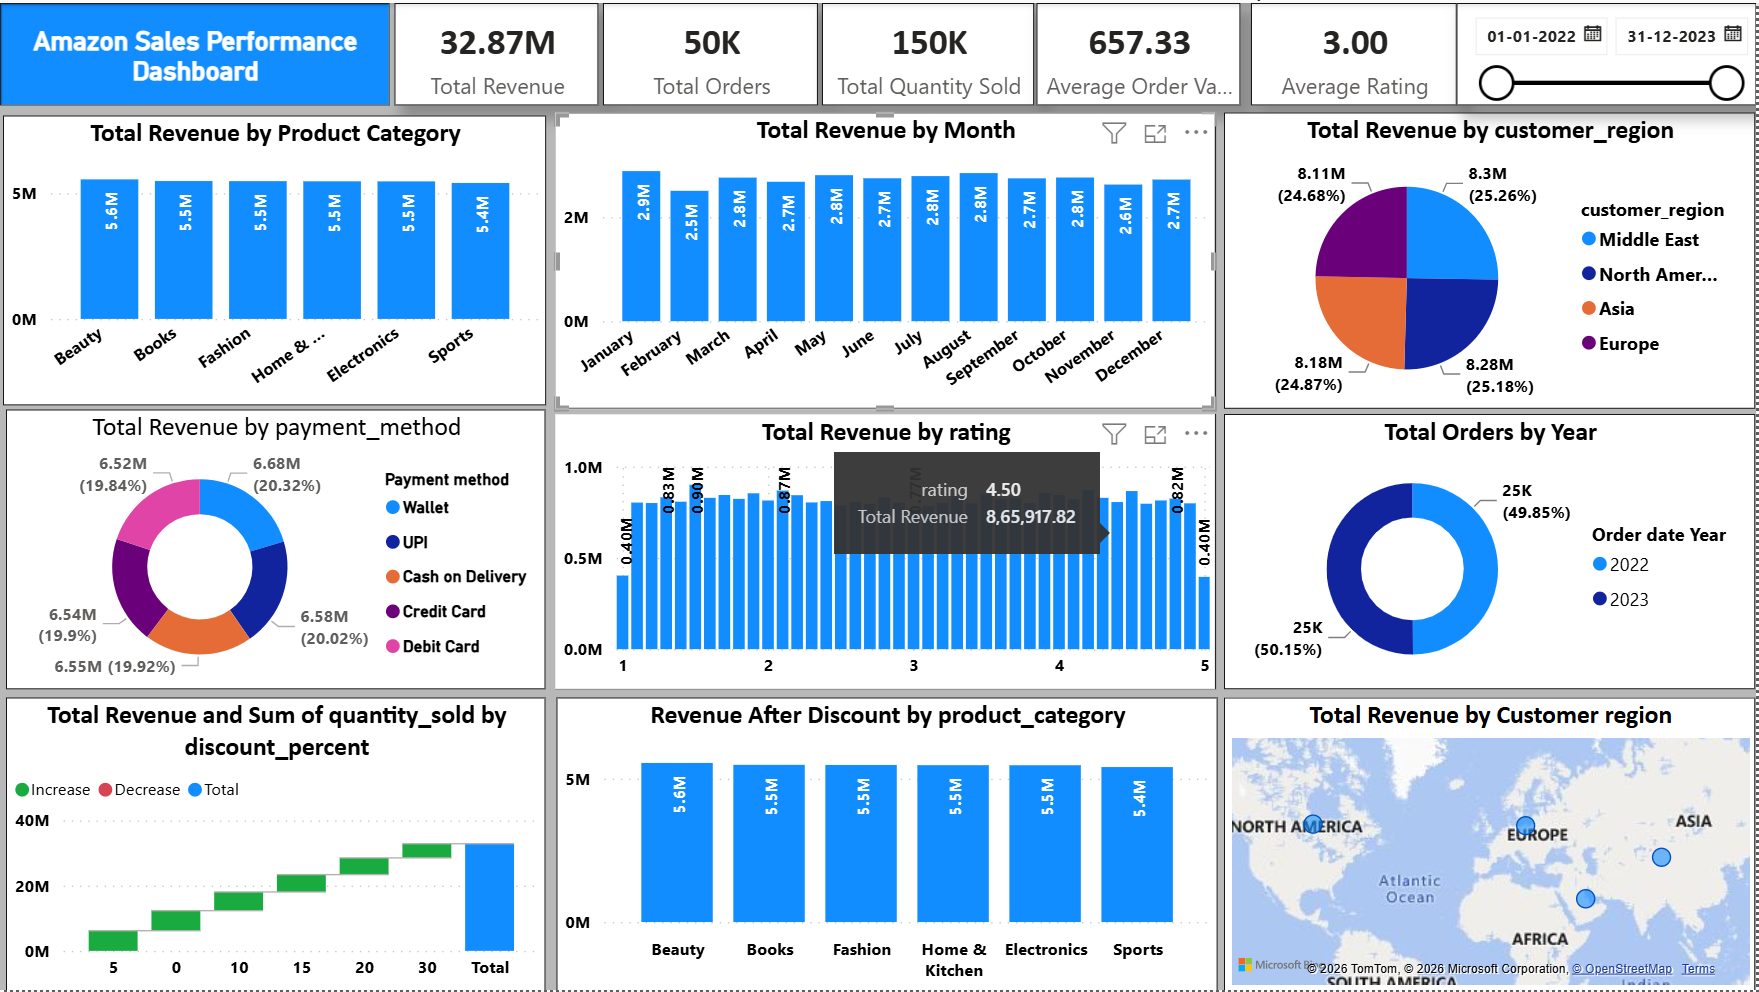

The page's visual inventory and layout, read from the dashboard file:
{"tool":"powerbi","page":{"name":"DASHBOARD","canvas":[1280,720],"ordinal":0},"visuals":[{"type":"card","fields":{"Values":["amazon_sales_dataset.Total Revenue"]},"box":[287.4,0,148.5,74.9],"z":0},{"type":"card","fields":{"Values":["amazon_sales_dataset.Total Orders"]},"box":[439.5,0,157,74.9],"z":1000},{"type":"card","fields":{"Values":["amazon_sales_dataset.Total Quantity Sold"]},"box":[598.9,0,154.6,74.9],"z":2000},{"type":"card","title":"Average Value","fields":{"Values":["amazon_sales_dataset.Average Order Value"]},"box":[755.9,0,148.5,74.9],"z":3000},{"type":"card","fields":{"Values":["amazon_sales_dataset.Average Rating"]},"box":[912.1,0,149.8,74.4],"z":4000},{"type":"columnChart","fields":{"Category":["amazon_sales_dataset.product_category"],"Y":["amazon_sales_dataset.Total Revenue"]},"box":[2.4,82.1,396.1,211.3],"z":5000},{"type":"columnChart","fields":{"Y":["amazon_sales_dataset.Total Revenue"],"Category":["amazon_sales_dataset.order_date.Variation.Date Hierarchy.Month"]},"box":[404.5,79.7,481.8,216.2],"z":6000},{"type":"pieChart","fields":{"Category":["amazon_sales_dataset.customer_region"],"Y":["amazon_sales_dataset.Total Revenue"]},"box":[892.4,79.7,387.6,216.2],"z":7000},{"type":"donutChart","fields":{"Category":["amazon_sales_dataset.payment_method"],"Y":["amazon_sales_dataset.Total Revenue"]},"box":[4.8,295.8,393.7,204.1],"z":8000},{"type":"waterfallChart","fields":{"Category":["amazon_sales_dataset.discount_percent"],"Y":["amazon_sales_dataset.Total Revenue"]},"box":[4.8,506,393.7,213.7],"z":9000},{"type":"columnChart","fields":{"Category":["amazon_sales_dataset.rating"],"Y":["amazon_sales_dataset.Total Revenue"]},"box":[404.5,299.5,481.8,200.5],"z":10000},{"type":"slicer","fields":{"Values":["amazon_sales_dataset.order_date"]},"box":[1061.4,0,218.6,74.9],"z":11000},{"type":"shape","box":[0,0,283.8,74.9],"z":12000},{"type":"columnChart","fields":{"Category":["amazon_sales_dataset.product_category"],"Y":["amazon_sales_dataset.Revenue After Discount"]},"box":[405.7,506,481.8,213.7],"z":13000},{"type":"map","title":"Total Revenue by Customer region","fields":{"Category":["amazon_sales_dataset.customer_region"],"Size":["amazon_sales_dataset.Total Revenue"]},"box":[892.4,506,387.6,213.7],"z":14000},{"type":"donutChart","fields":{"Category":["amazon_sales_dataset.order_date.Variation.Date Hierarchy.Year"],"Y":["amazon_sales_dataset.Total Orders"]},"box":[892.4,299.5,387.6,200.5],"z":15000}]}

Visuals, with their boxes in screenshot pixels (x1, y1, x2, y2), scaled from the page's 1280x720 canvas onto the 1759x992 screenshot:
card - amazon_sales_dataset.Total Revenue: bbox(395, 0, 599, 103)
card - amazon_sales_dataset.Total Orders: bbox(604, 0, 820, 103)
card - amazon_sales_dataset.Total Quantity Sold: bbox(823, 0, 1035, 103)
"Average Value" card: bbox(1039, 0, 1243, 103)
card - amazon_sales_dataset.Average Rating: bbox(1253, 0, 1459, 103)
columnChart - amazon_sales_dataset.product_category x amazon_sales_dataset.Total Revenue: bbox(3, 113, 548, 404)
columnChart - amazon_sales_dataset.Total Revenue x amazon_sales_dataset.order_date.Variation.Date Hierarchy.Month: bbox(556, 110, 1218, 408)
pieChart - amazon_sales_dataset.customer_region x amazon_sales_dataset.Total Revenue: bbox(1226, 110, 1758, 408)
donutChart - amazon_sales_dataset.payment_method x amazon_sales_dataset.Total Revenue: bbox(7, 408, 548, 689)
waterfallChart - amazon_sales_dataset.discount_percent x amazon_sales_dataset.Total Revenue: bbox(7, 697, 548, 991)
columnChart - amazon_sales_dataset.rating x amazon_sales_dataset.Total Revenue: bbox(556, 413, 1218, 689)
slicer - amazon_sales_dataset.order_date: bbox(1459, 0, 1758, 103)
shape: bbox(0, 0, 390, 103)
columnChart - amazon_sales_dataset.product_category x amazon_sales_dataset.Revenue After Discount: bbox(558, 697, 1220, 991)
"Total Revenue by Customer region" map: bbox(1226, 697, 1758, 991)
donutChart - amazon_sales_dataset.order_date.Variation.Date Hierarchy.Year x amazon_sales_dataset.Total Orders: bbox(1226, 413, 1758, 689)
